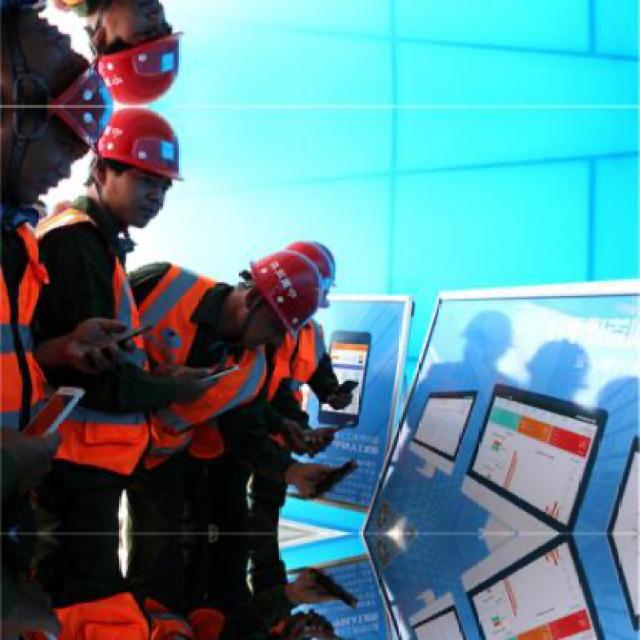con casco: (9, 45, 99, 217), (82, 107, 197, 239), (236, 238, 330, 338), (284, 220, 354, 308)
